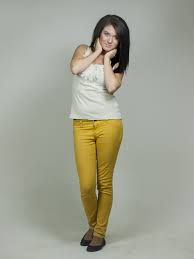person: (68, 9, 142, 114)
